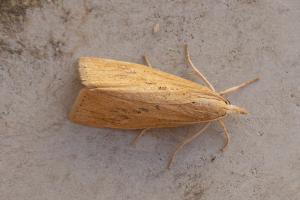Crambidae: (65, 45, 261, 168)
